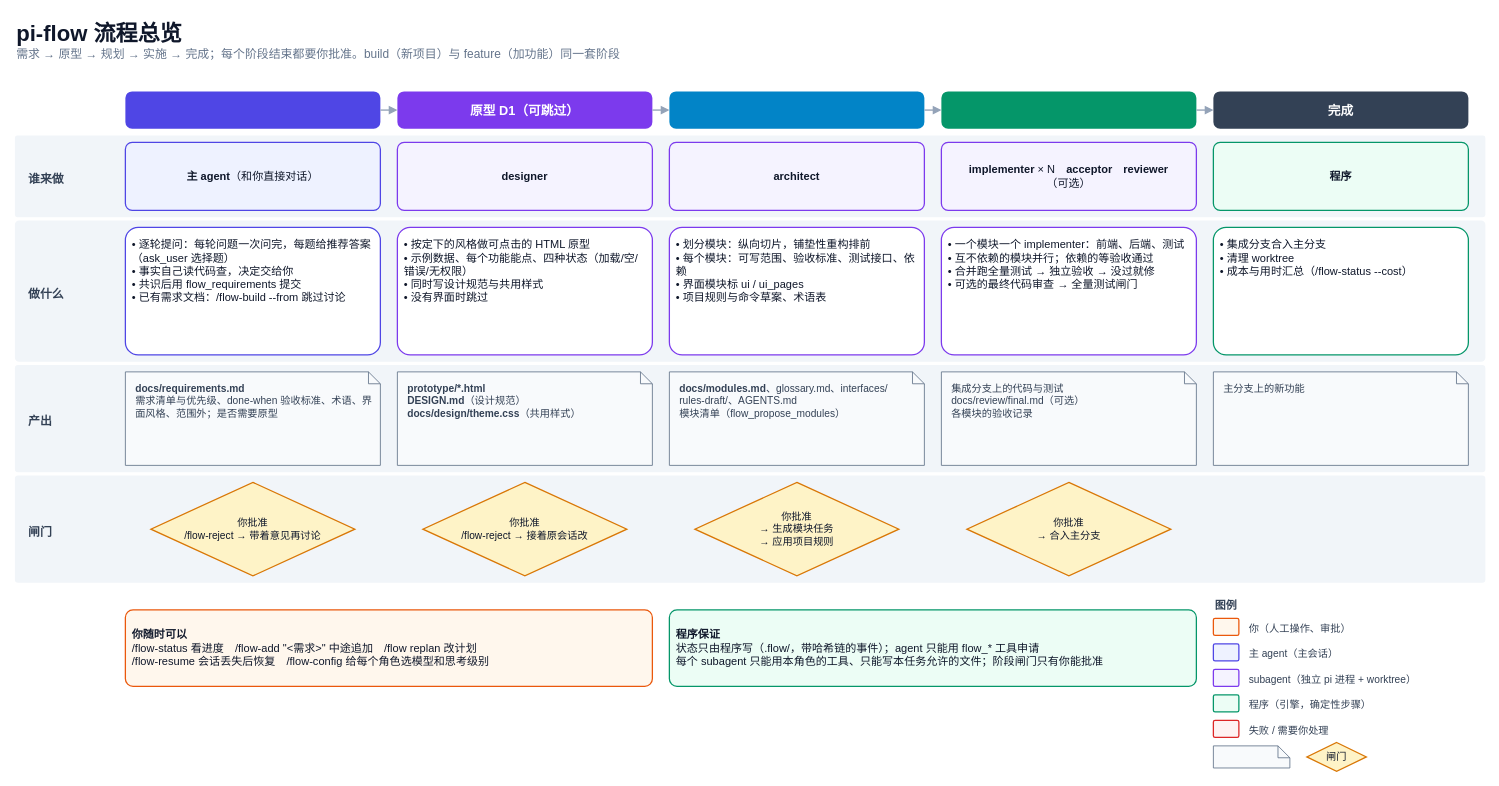
Image size: 1499x786. Some labels were removed from this diagram. Here are the shapes that lost their labels. From the top down, the centre of each, then its label:
At (x=252, y=109): "需求 D0".
At (x=796, y=109): "规划 D2".
At (x=1068, y=109): "实施 E".
At (x=1251, y=756): "产出文件".
